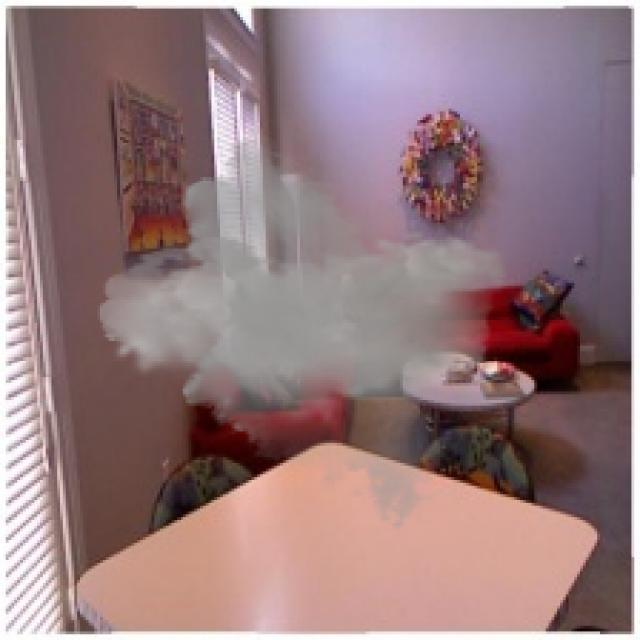Smoke: (97, 126, 509, 532)
